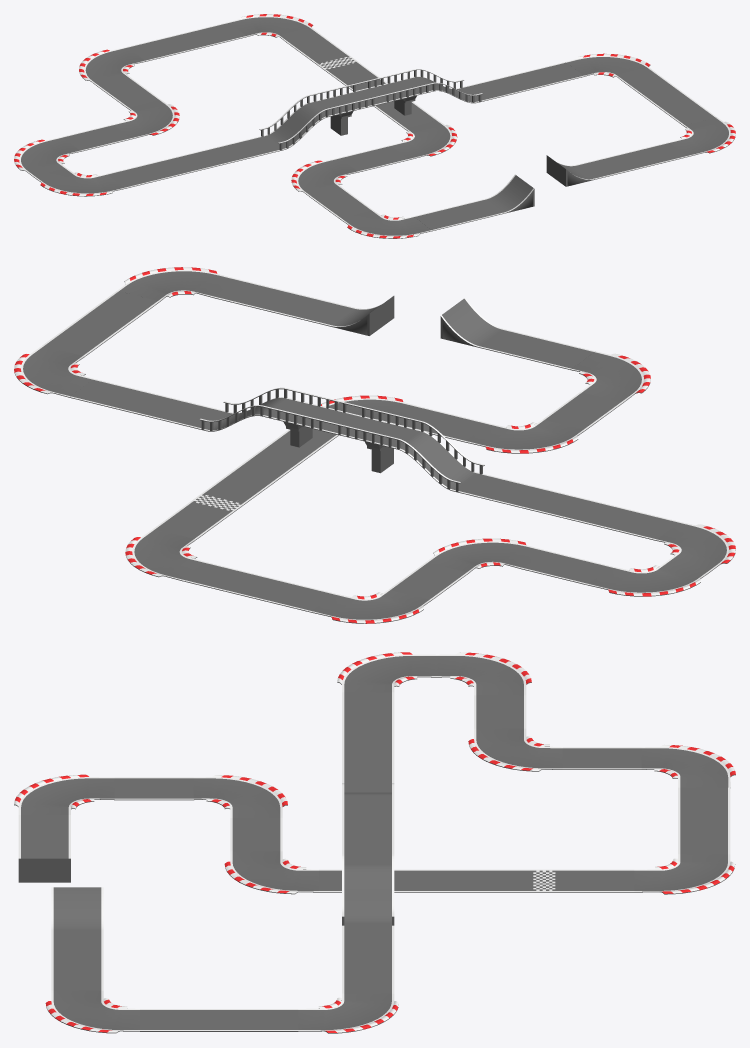
File: racetrack.glb
3 renders of one model, top to bottom at view 1: azimuth 30°, elevation 25°; view 2: azimuth 150°, elevation 25°; view 3: azimuth 270°, elevation 25°, orthographic. The views are drawn at different scales.
Parts seen in each view (by area): view 1: cube; view 2: cube; view 3: cube.
Boxes of the visible parts, box(x1,y1,x2,y2) form: cube: box(14, 14, 735, 238); cube: box(14, 267, 735, 623); cube: box(14, 652, 735, 1033).
Size of the model in its own units: 243 by 13.68 by 195.
